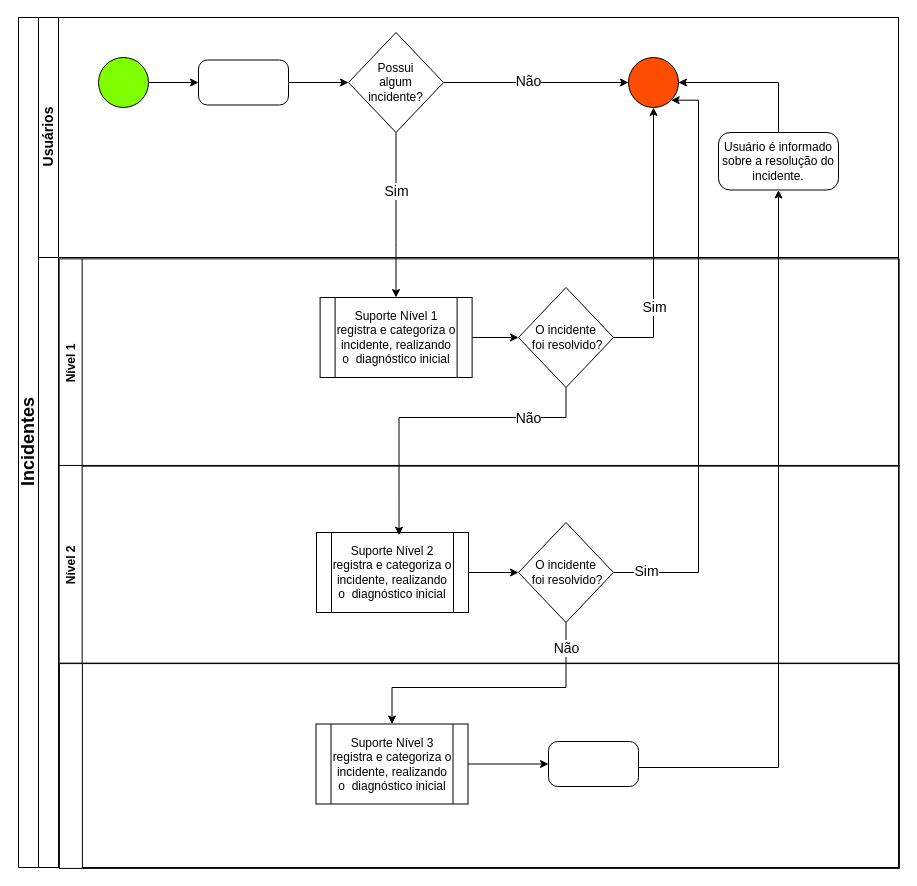
Some shapes in this 917 by 886 pixel diagram are drawn without their labels. The box of each missing label's shape, as (x1, y1, x2, y2) in pixels:
Central de Serviços de TI: (38, 256, 898, 868)
Encerra o incidente: (548, 740, 638, 786)
Fim: (628, 56, 678, 108)
Início: (98, 56, 148, 108)
Nível 3: (58, 663, 899, 868)
Usuário entra na plataforma: (198, 59, 288, 105)
